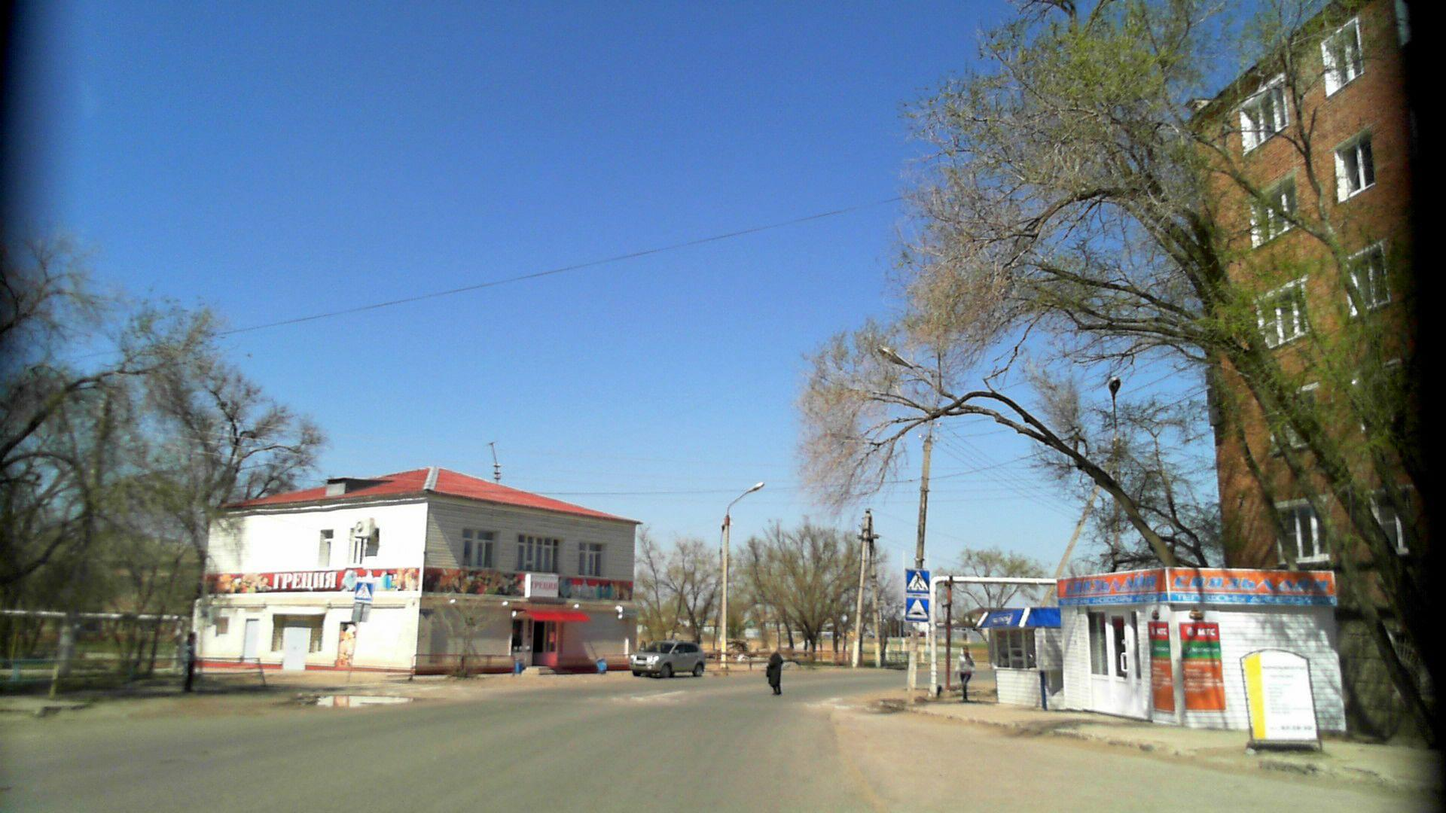road_sign: (905, 595, 929, 622), (905, 568, 929, 595)
